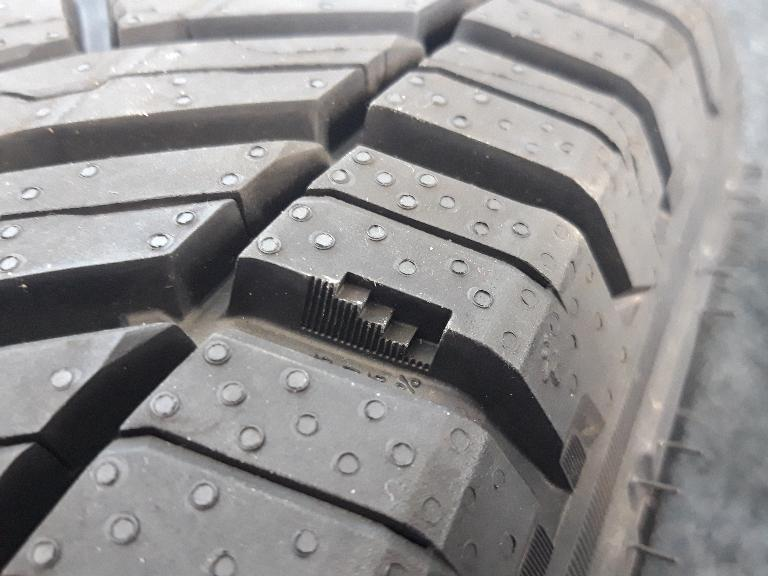temoin:100: (300, 264, 457, 381)
